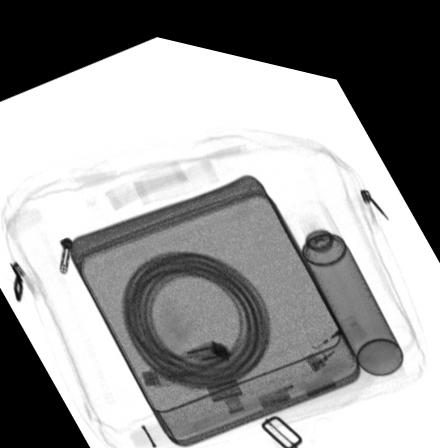Lighter: (172, 328, 230, 363)
Sprayer: (280, 181, 401, 356)
